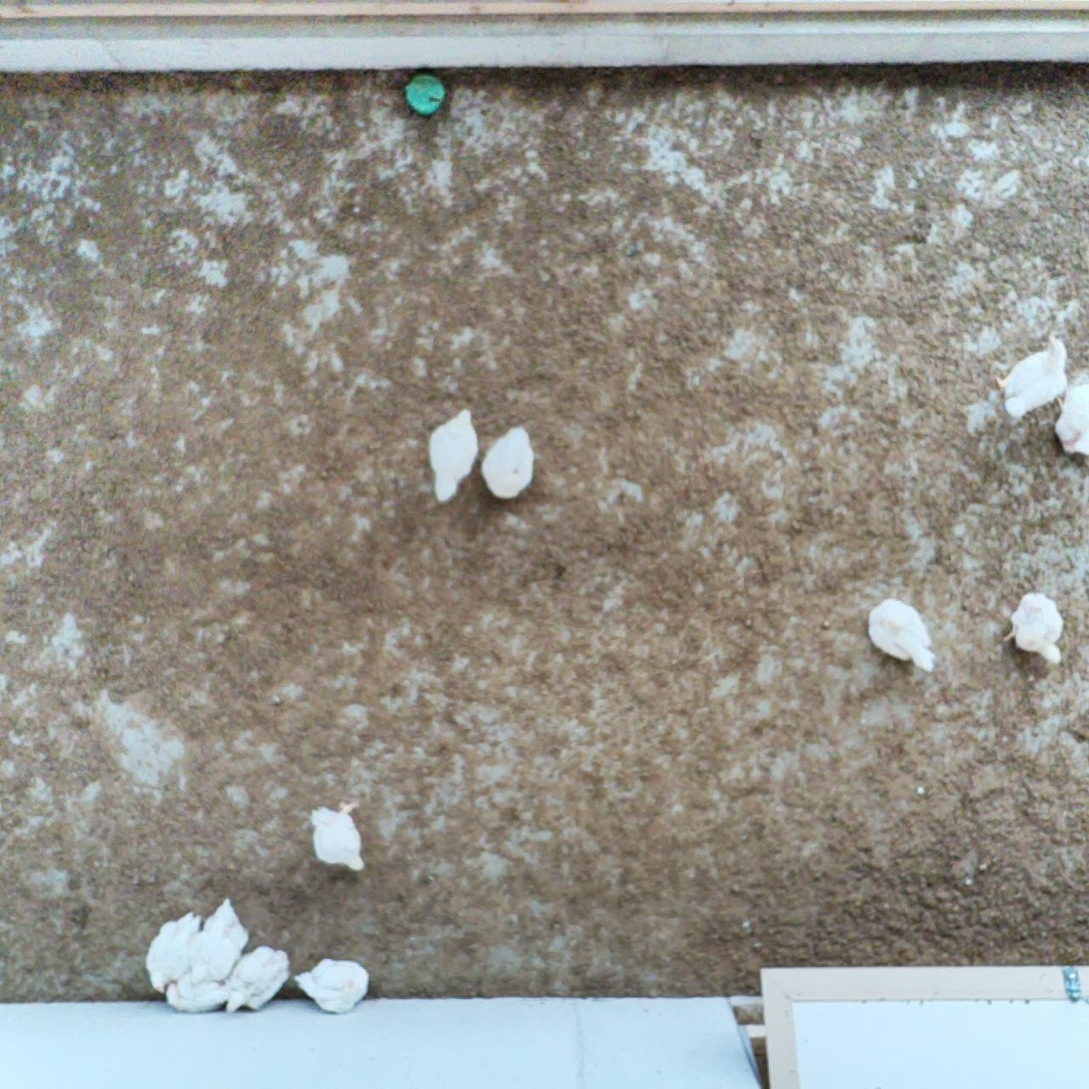chicken: (996, 332, 1076, 422), (423, 404, 479, 506), (863, 598, 937, 674), (145, 908, 207, 996), (183, 898, 250, 979), (304, 797, 369, 878), (222, 942, 293, 1016), (1003, 589, 1067, 670), (477, 424, 535, 507), (296, 954, 372, 1015), (1054, 366, 1089, 460), (158, 970, 226, 1016)
